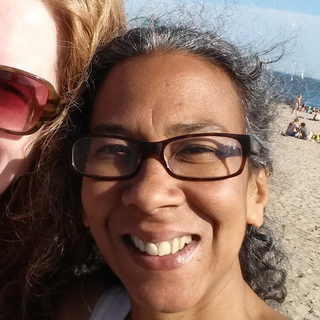eye: (169, 140, 225, 162), (90, 140, 135, 162)
